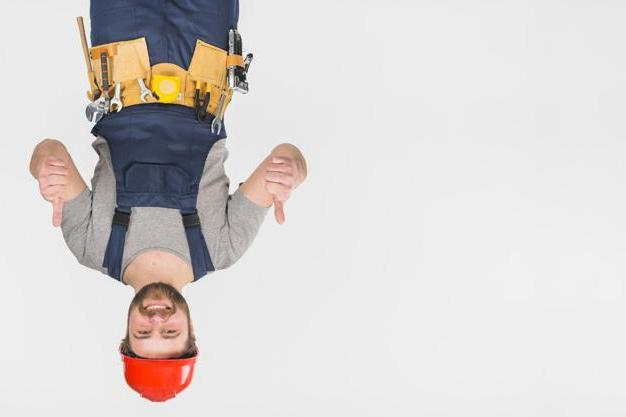thumbsdown: (39, 157, 69, 228), (264, 156, 294, 225)
